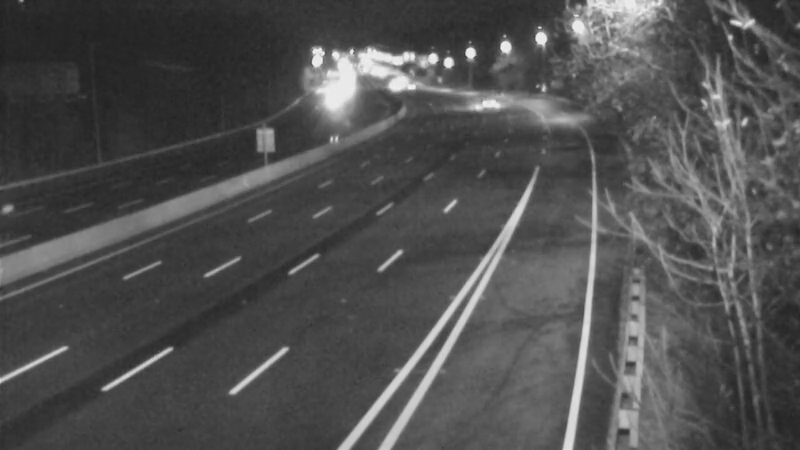vehicle: (389, 62, 439, 112), (368, 60, 418, 110), (457, 81, 507, 131)
